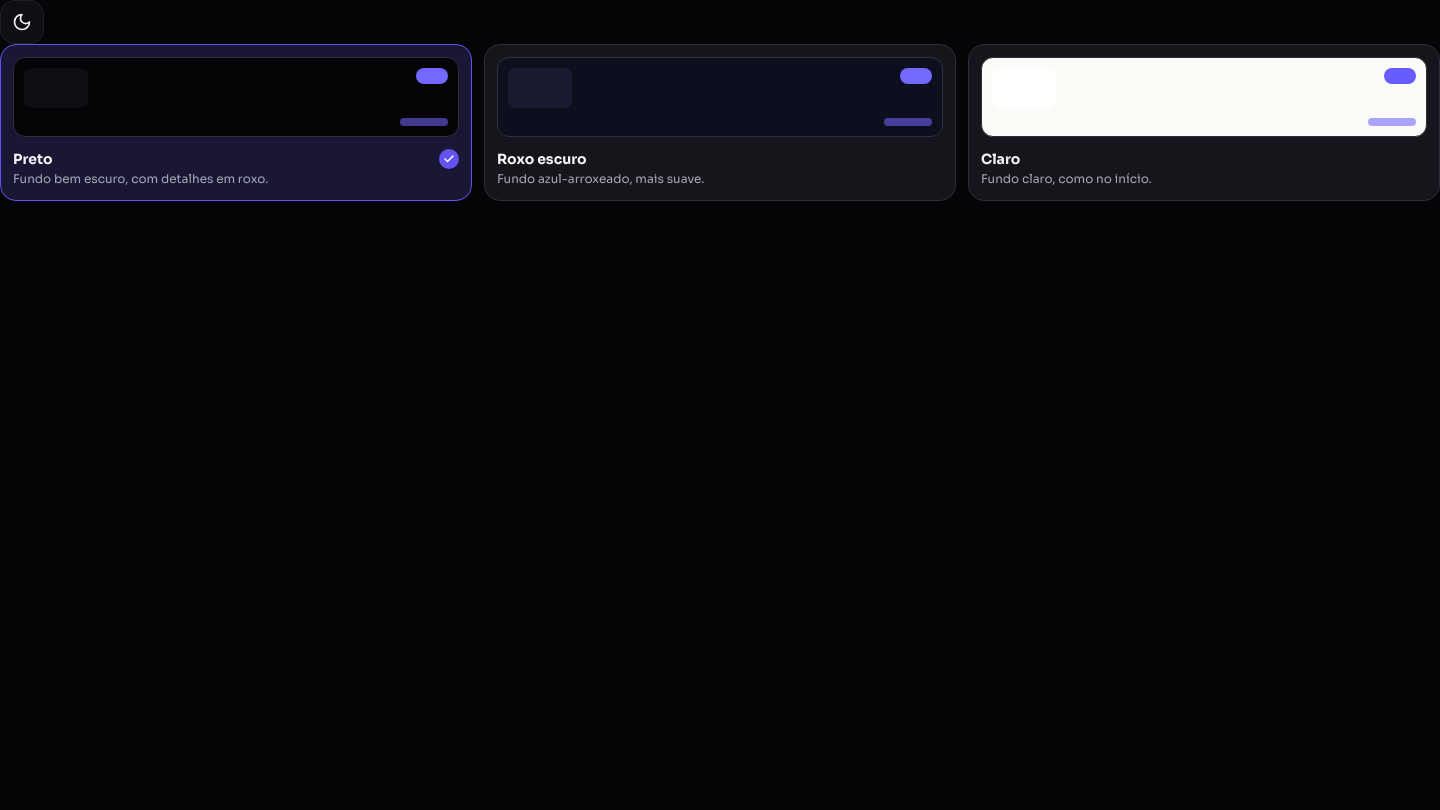
Test: AlternarTema › acompanha a escolha feita em outro componente da tela
Click the radio button labelled "Claro Fundo claro, como no início." at (1204, 122), box [968, 44, 1439, 200]
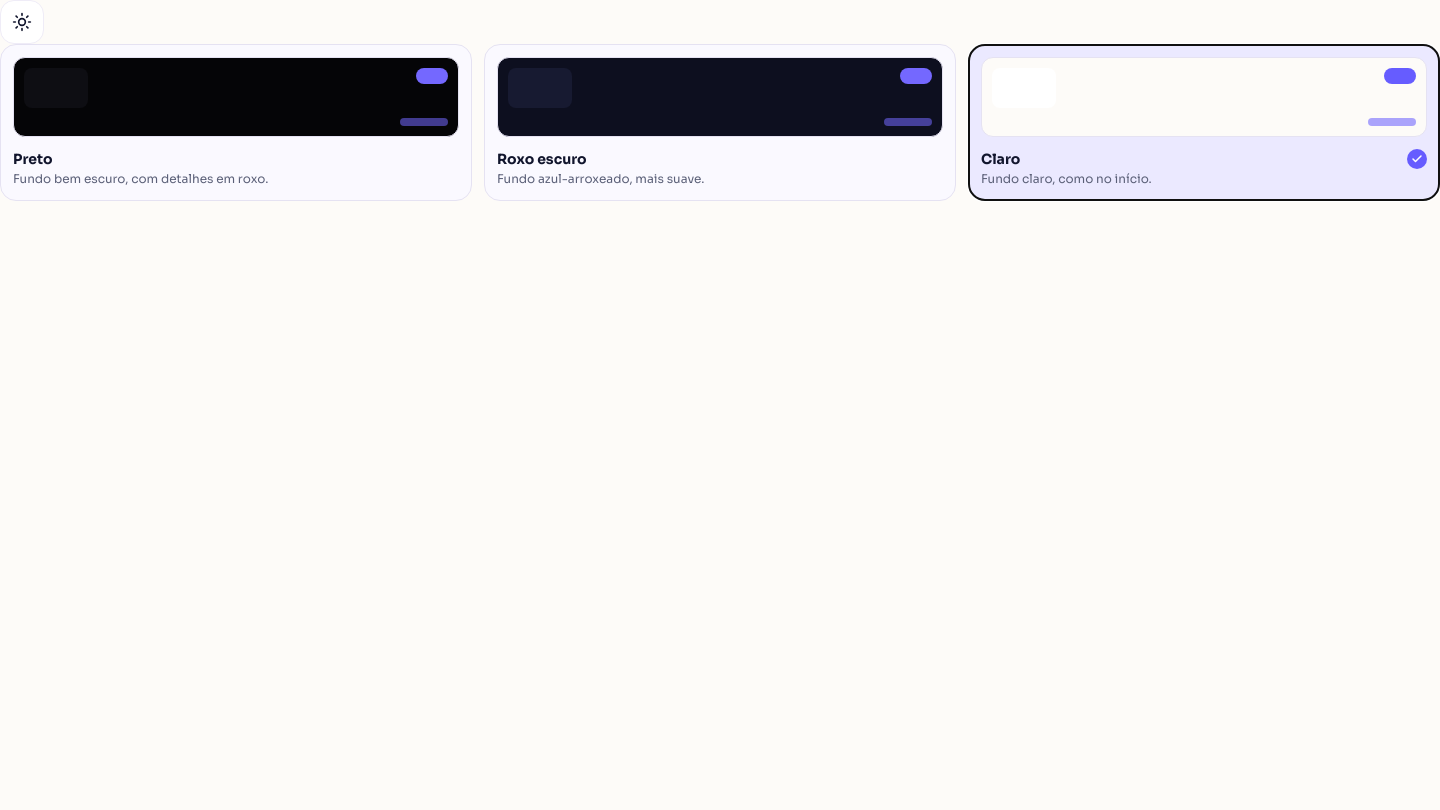
Check: the button named "Trocar para o tema Preto" is shown, box [0, 0, 44, 44]
